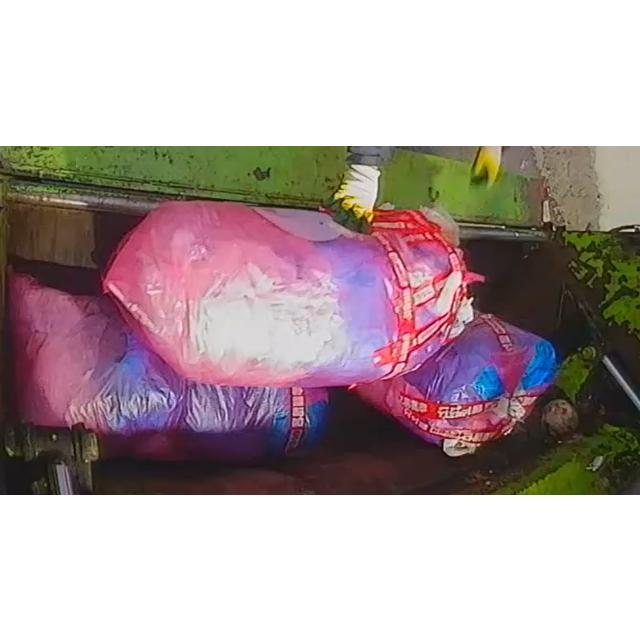other_trashbag: (102, 200, 481, 386), (9, 271, 328, 465), (356, 312, 558, 455)
